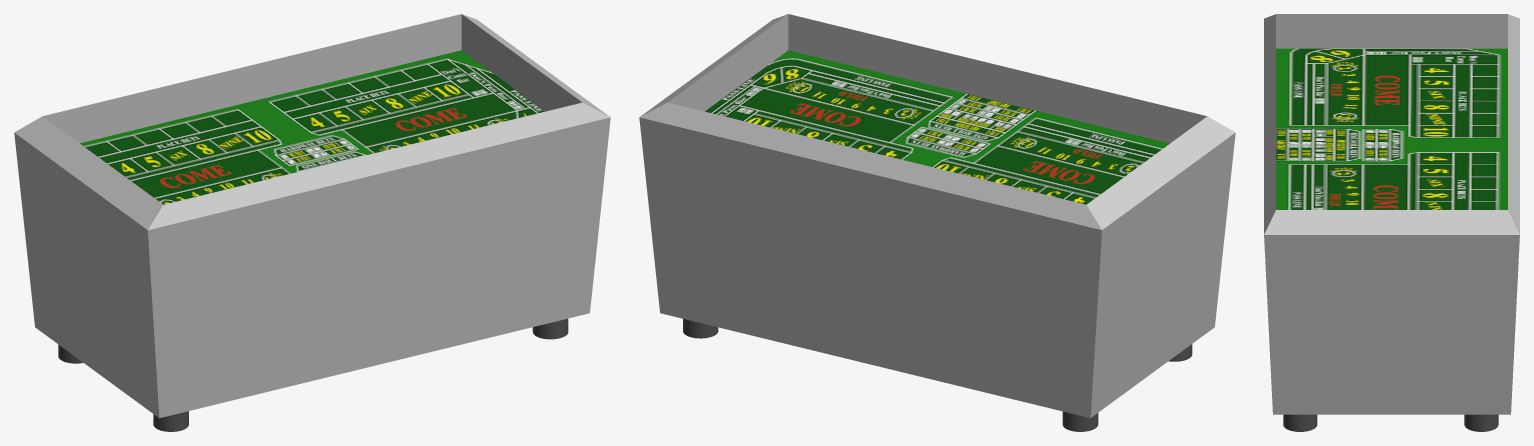
File: Tables.fbx
The picture shows the model from 3 angles, left to right: view 1: azimuth 30°, elevation 25°; view 2: azimuth 150°, elevation 25°; view 3: azimuth 270°, elevation 25°; orthographic projection. The views are drawn at different scales.
Parts seen in each view (by area): view 1: CrapsTable; view 2: CrapsTable; view 3: CrapsTable.
Part boxes in pixels (bbox=[...]): CrapsTable: bbox=[14, 14, 610, 431]; CrapsTable: bbox=[639, 14, 1235, 431]; CrapsTable: bbox=[1264, 14, 1519, 431].
Bounding box in the file's own units: 300 × 145 × 150.
